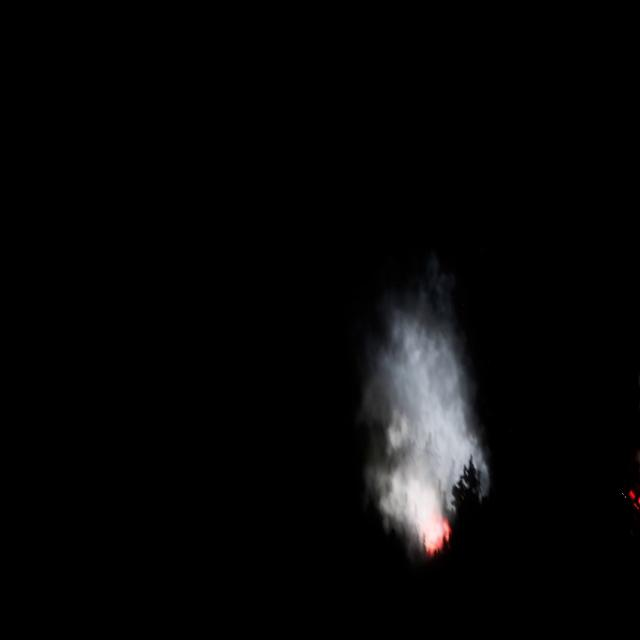fire: (428, 524, 448, 550)
smoke: (365, 284, 491, 548)
